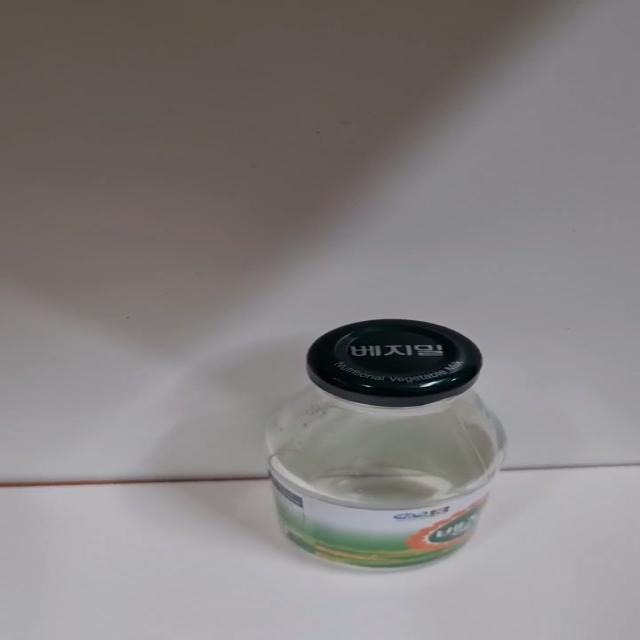Glass: (253, 316, 512, 574)
